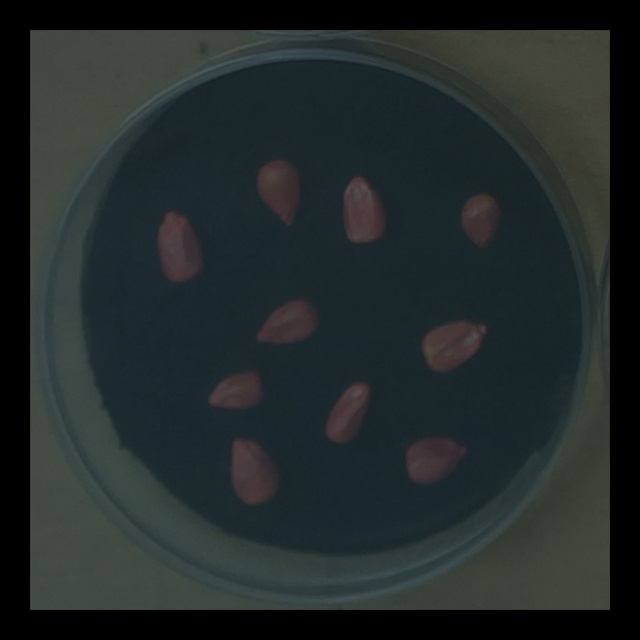Zea mays: (223, 429, 288, 512), (416, 314, 494, 381), (149, 205, 210, 290), (248, 152, 308, 236), (397, 429, 474, 493), (248, 291, 326, 353), (336, 172, 395, 251), (319, 375, 378, 453), (199, 361, 270, 417), (454, 187, 509, 256)
